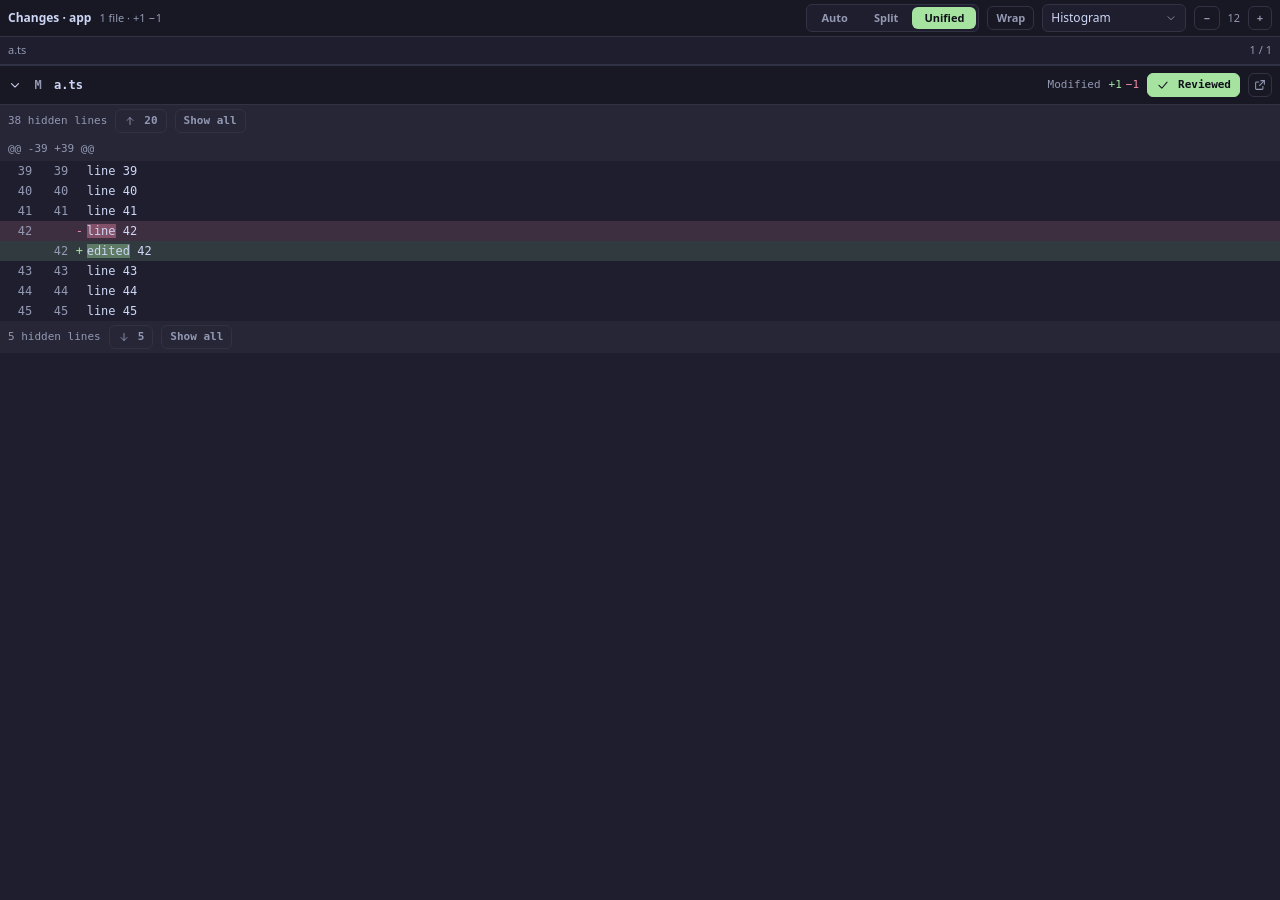
A comment attaches to a line or a range on one side › clearing the pick leaves nothing picked
Expected: the list with test id "review-list" is shown, [0,65,1279,353]
Press the mouse on the 3rd button with test id "review-no-new" at (61, 211), box [54,204,68,218]
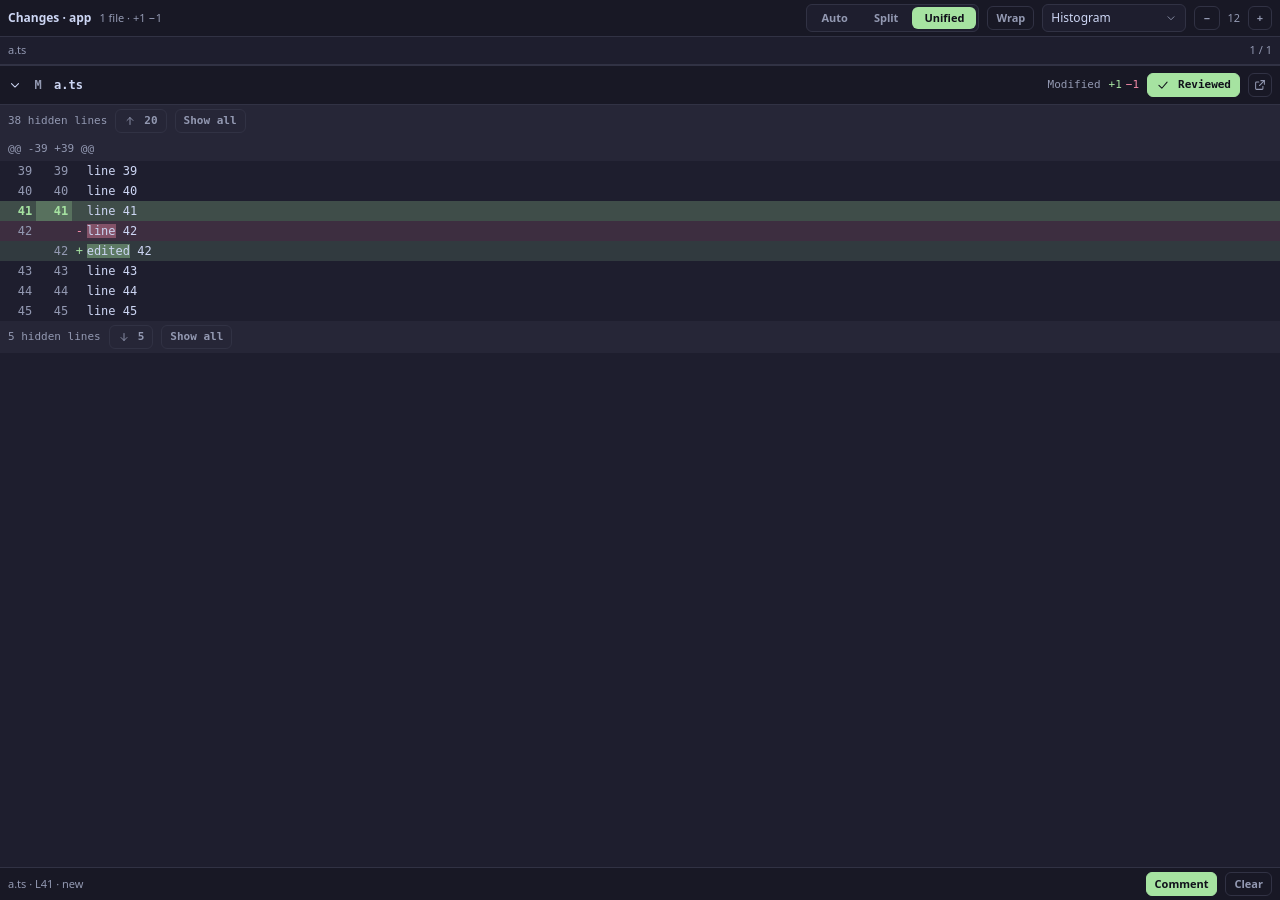
Click the button with test id "review-selection-clear" at (1249, 884), box [1226,872,1272,896]
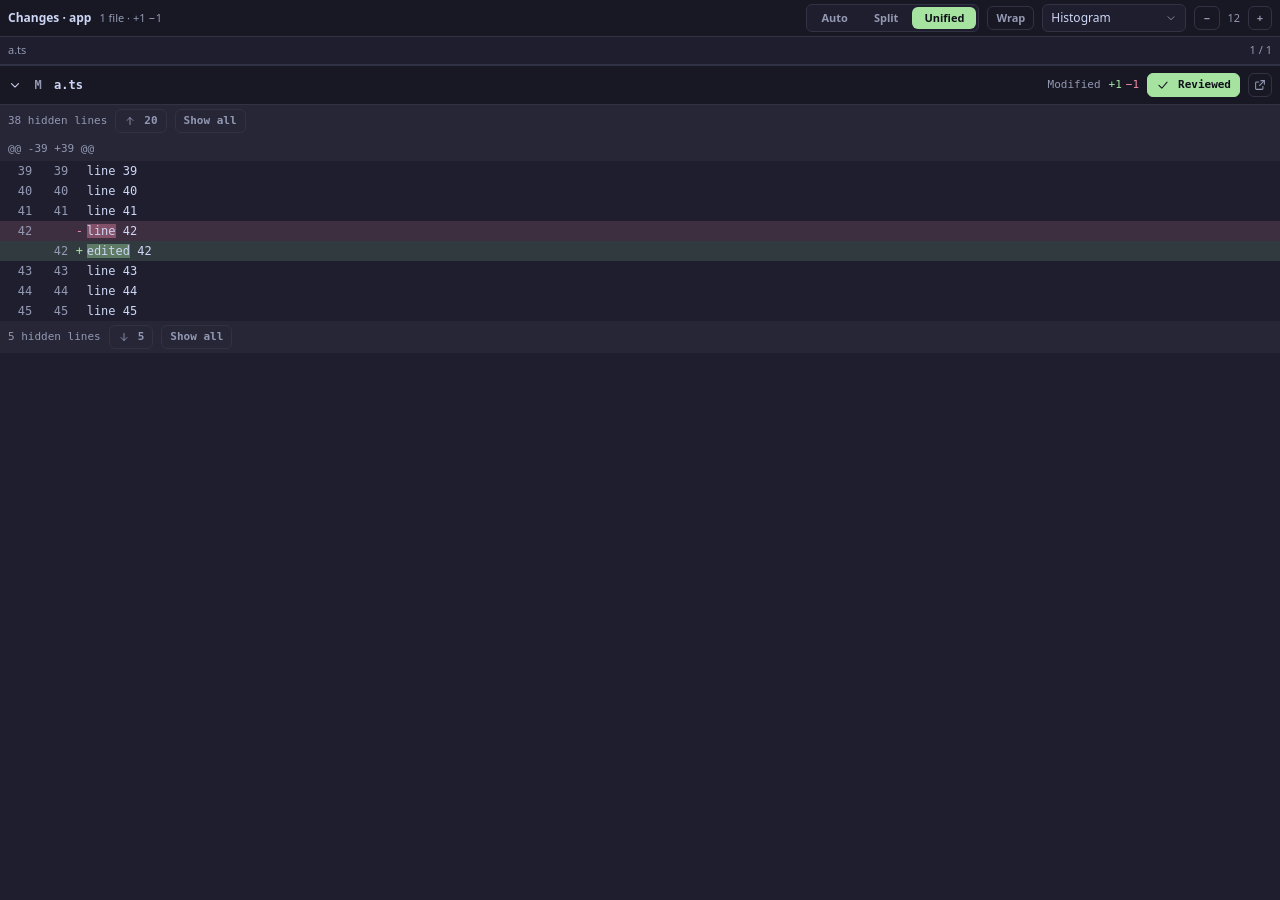
Result: the message with test id "review-selection" is gone
